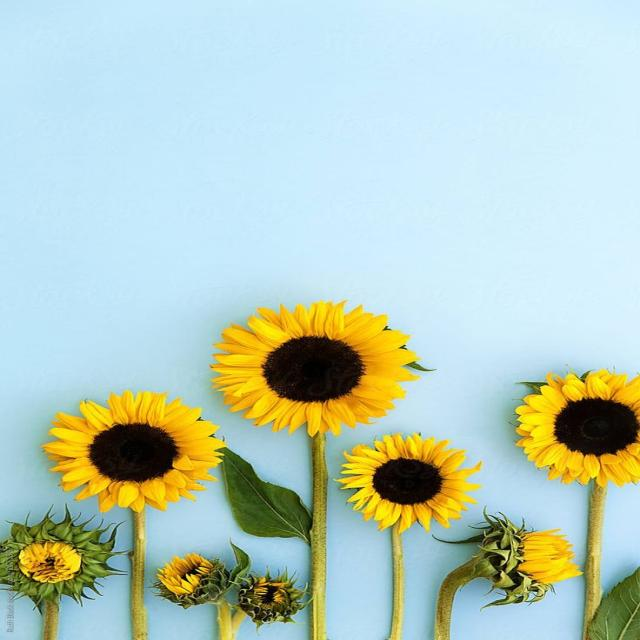sunflower: (187, 290, 425, 433), (34, 385, 230, 504), (506, 358, 640, 489), (335, 429, 483, 534), (463, 515, 584, 610), (0, 513, 121, 608), (152, 550, 233, 610)
